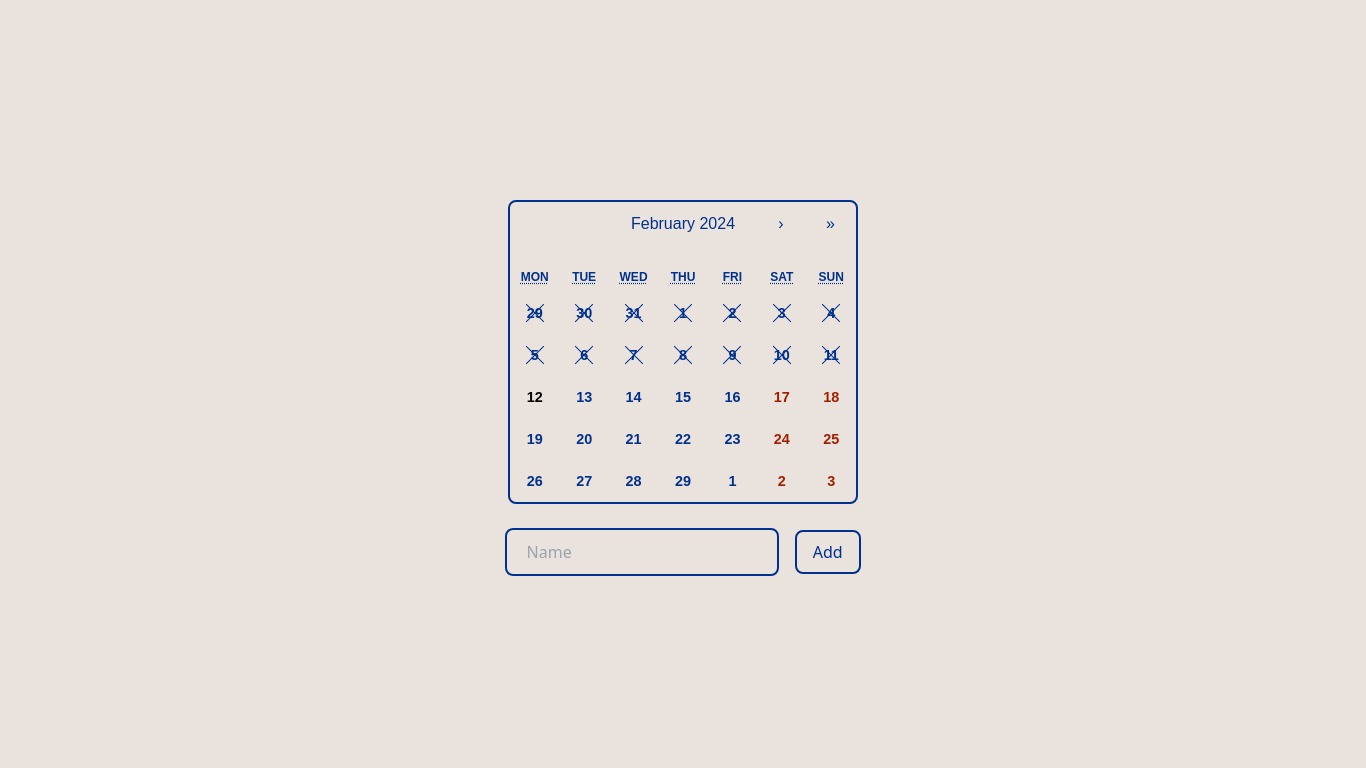
BookingForm › prevents user from submiting without selecting a date
// Simulate user input for the name
Type "John Doe" into the field with placeholder "Name" at (642, 552), box [505,528,779,576]
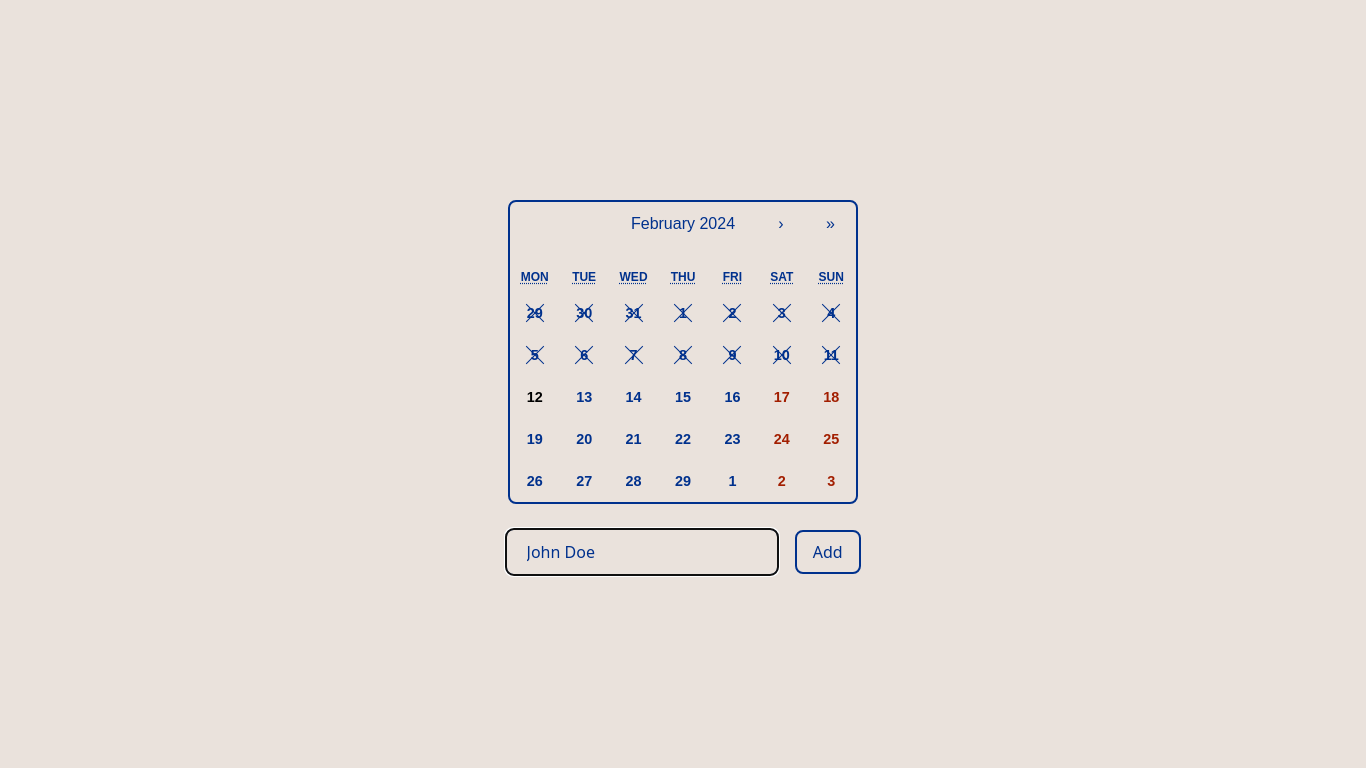
// Simulate form submission
Click the button "Add" at (828, 552), box [795,530,861,574]
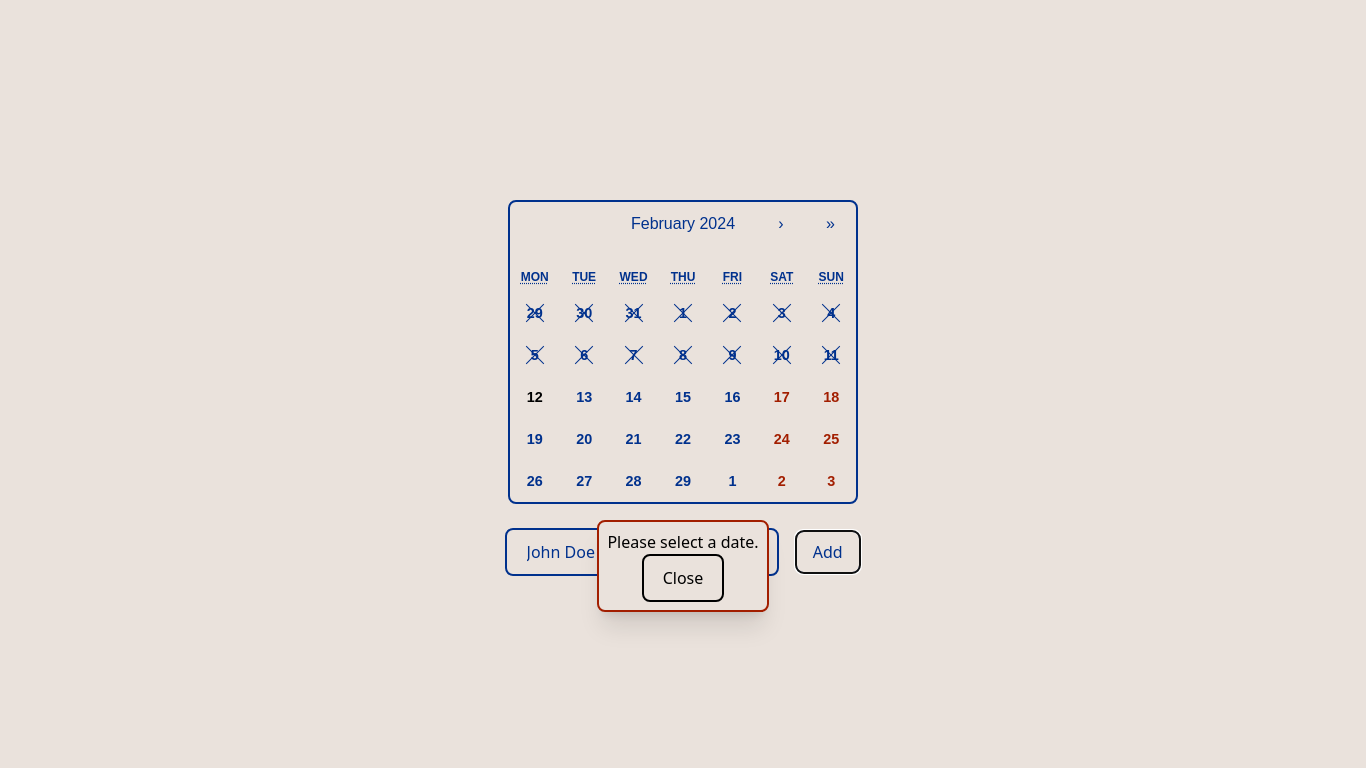
Check: the dialog is shown, box [597,520,769,612]
Check: the text "Please select a date." is shown, box [607,530,759,554]
